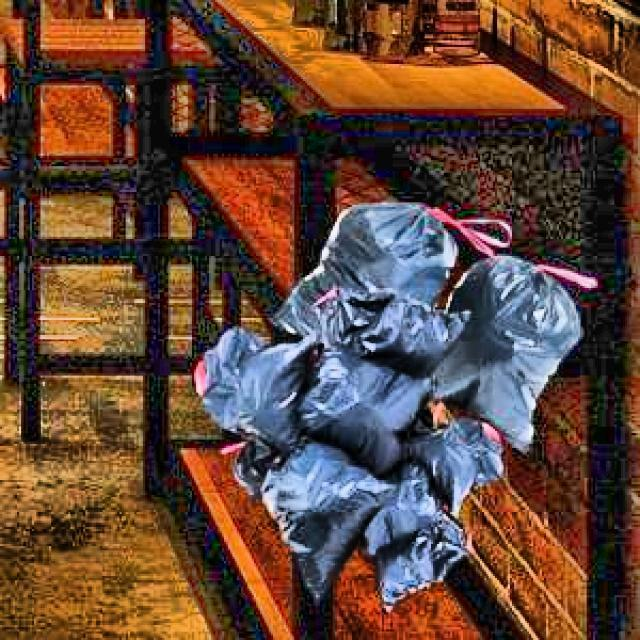Trashbag: (448, 268, 586, 430), (315, 198, 458, 302), (277, 438, 379, 577), (202, 323, 312, 446), (314, 359, 424, 455), (324, 291, 461, 367), (380, 518, 463, 598), (432, 418, 502, 488)
